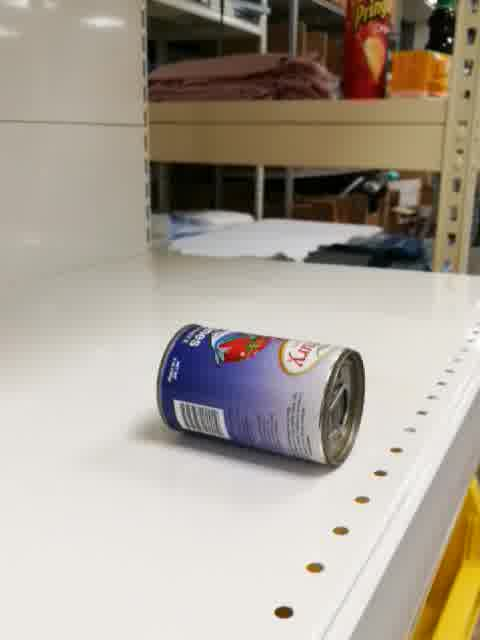sardine: (156, 322, 366, 470)
